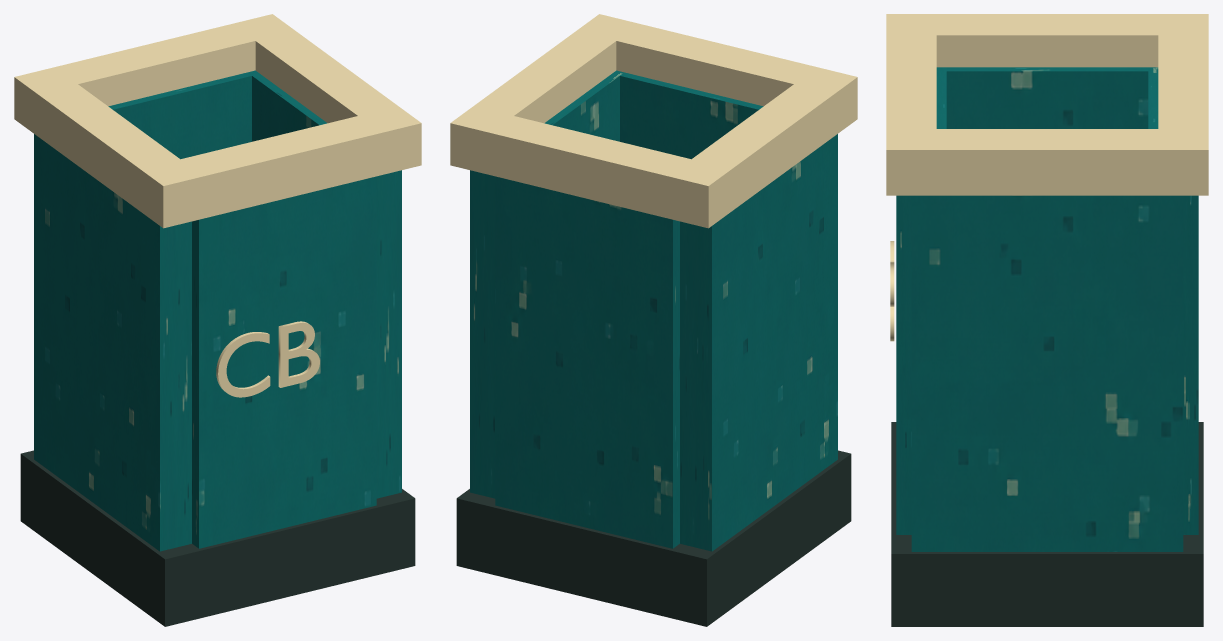
The model's file is park-litter-bin.glb.
3 renders of one model, left to right at view 1: azimuth 30°, elevation 25°; view 2: azimuth 150°, elevation 25°; view 3: azimuth 270°, elevation 25°, orthographic. The views are drawn at different scales.
Visible parts, largest first — view 1: Front back panel, Side panel, Base, Opening rim, Opening rim.002, Side panel.001, Opening rim.001, Opening rim.003, Front back panel.001, CB emblem; view 2: Front back panel.001, Side panel, Base, Opening rim, Opening rim.003, Side panel.001, Opening rim.001, Opening rim.002, Front back panel; view 3: Side panel.001, Base, Opening rim.001, Opening rim, Side panel, Front back panel, Front back panel.001, Opening rim.002, Opening rim.003, CB emblem.
Boxes of the visible parts, x1,y1,x2,y2 form: Front back panel: (192,176,376,548); Side panel: (34,134,191,551); Base: (20,450,415,626); Opening rim: (14,67,203,228); Opening rim.002: (172,114,389,219); Side panel.001: (248,70,401,498); Opening rim.001: (232,14,421,174); Opening rim.003: (48,23,261,106); Front back panel.001: (108,72,251,159); CB emblem: (216,321,319,397); Front back panel.001: (495,176,679,548); Side panel: (680,134,837,551); Base: (456,450,851,626); Opening rim: (668,67,857,228); Opening rim.003: (482,114,699,220); Side panel.001: (470,70,623,498); Opening rim.001: (450,14,639,174); Opening rim.002: (616,23,824,106); Front back panel: (620,72,763,159); Side panel.001: (911,195,1183,551); Base: (891,422,1203,626); Opening rim.001: (886,129,1208,195); Opening rim: (886,14,1208,67); Side panel: (946,67,1148,128); Front back panel: (896,67,946,534); Front back panel.001: (1148,67,1198,534); Opening rim.002: (886,35,936,132); Opening rim.003: (1158,35,1208,132); CB emblem: (890,241,894,341).
Size of the model in its own units: 0.64 by 1.05 by 0.64.
Materials: 3 (1 with a texture image).
